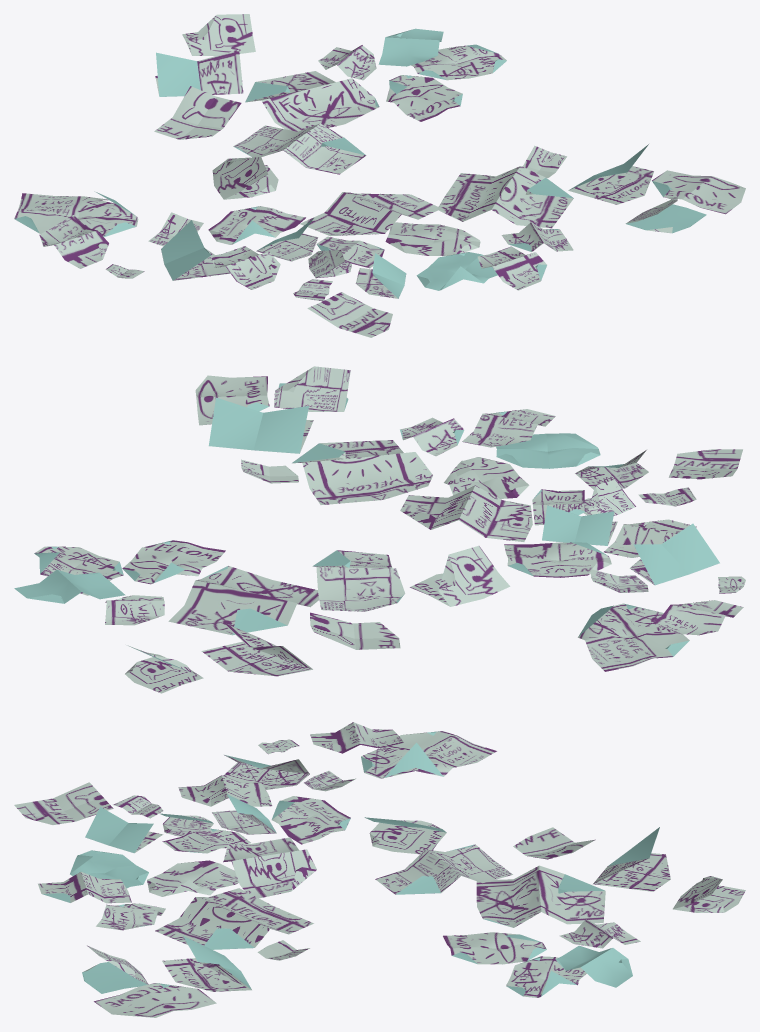
Rendered from room1-props.glb.
3 views of the same model, one above another, from view 1: azimuth 30°, elevation 25°; view 2: azimuth 150°, elevation 25°; view 3: azimuth 270°, elevation 25° (orthographic). The views are drawn at different scales.
Visible parts, largest first — view 1: Paper_02_GEO.5, Paper_02_GEO.11, Paper_02_GEO.1, Paper_02_GEO.3, Paper_04_GEO.2, Paper_05_GEO.4, Paper_01_GEO.3, Paper_02_GEO.6, Paper_04_GEO.1, Paper_04_GEO.5, Paper_06_GEO.2, Paper_04_GEO.4 (+20 smaller); view 2: Paper_02_GEO.5, Paper_02_GEO.11, Paper_04_GEO.2, Paper_02_GEO.3, Paper_02_GEO.1, Paper_05_GEO.2, Paper_06_GEO.3, Paper_05_GEO.1, Paper_04_GEO, Paper_05_GEO.4, Paper_04_GEO.5, Paper_04_GEO.3 (+20 smaller); view 3: Paper_02_GEO.11, Paper_02_GEO.5, Paper_04_GEO.2, Paper_02_GEO.1, Paper_02_GEO.3, Paper_02_GEO.6, Paper_05_GEO.2, Paper_04_GEO.5, Paper_05_GEO.4, Paper_04_GEO, Paper_04_GEO.1, Paper_01_GEO.2 (+20 smaller).
Part boxes in pixels (x1,y1,x2,y2): Paper_02_GEO.5: [437, 166, 573, 228]; Paper_02_GEO.11: [245, 71, 379, 131]; Paper_02_GEO.1: [300, 192, 438, 236]; Paper_02_GEO.3: [233, 123, 366, 174]; Paper_04_GEO.2: [14, 191, 138, 237]; Paper_05_GEO.4: [155, 49, 243, 96]; Paper_01_GEO.3: [154, 86, 241, 139]; Paper_02_GEO.6: [652, 170, 745, 214]; Paper_04_GEO.1: [385, 222, 480, 255]; Paper_04_GEO.5: [386, 75, 462, 121]; Paper_06_GEO.2: [182, 14, 255, 55]; Paper_04_GEO.4: [411, 44, 506, 80]; Paper_02_GEO.5: [292, 440, 432, 504]; Paper_02_GEO.11: [168, 565, 319, 635]; Paper_04_GEO.2: [578, 603, 689, 671]; Paper_02_GEO.3: [312, 550, 405, 611]; Paper_02_GEO.1: [400, 485, 532, 541]; Paper_05_GEO.2: [208, 397, 313, 453]; Paper_06_GEO.3: [410, 545, 510, 606]; Paper_05_GEO.1: [629, 523, 719, 585]; Paper_04_GEO: [504, 542, 611, 577]; Paper_05_GEO.4: [201, 621, 312, 676]; Paper_04_GEO.5: [122, 540, 225, 584]; Paper_04_GEO.3: [496, 433, 600, 468]; Paper_02_GEO.11: [476, 865, 605, 927]; Paper_02_GEO.5: [155, 888, 313, 949]; Paper_04_GEO.2: [361, 731, 496, 778]; Paper_02_GEO.1: [223, 837, 316, 898]; Paper_02_GEO.3: [375, 844, 512, 894]; Paper_02_GEO.6: [94, 983, 216, 1017]; Paper_05_GEO.2: [162, 936, 251, 991]; Paper_04_GEO.5: [443, 932, 546, 964]; Paper_05_GEO.4: [593, 827, 670, 891]; Paper_04_GEO: [271, 796, 350, 844]; Paper_04_GEO.1: [147, 860, 238, 896]; Paper_01_GEO.2: [14, 782, 113, 824].
Size of the model in its own units: 3.87 by 0.2009 by 4.13.
Materials: 33 (33 with a texture image).
